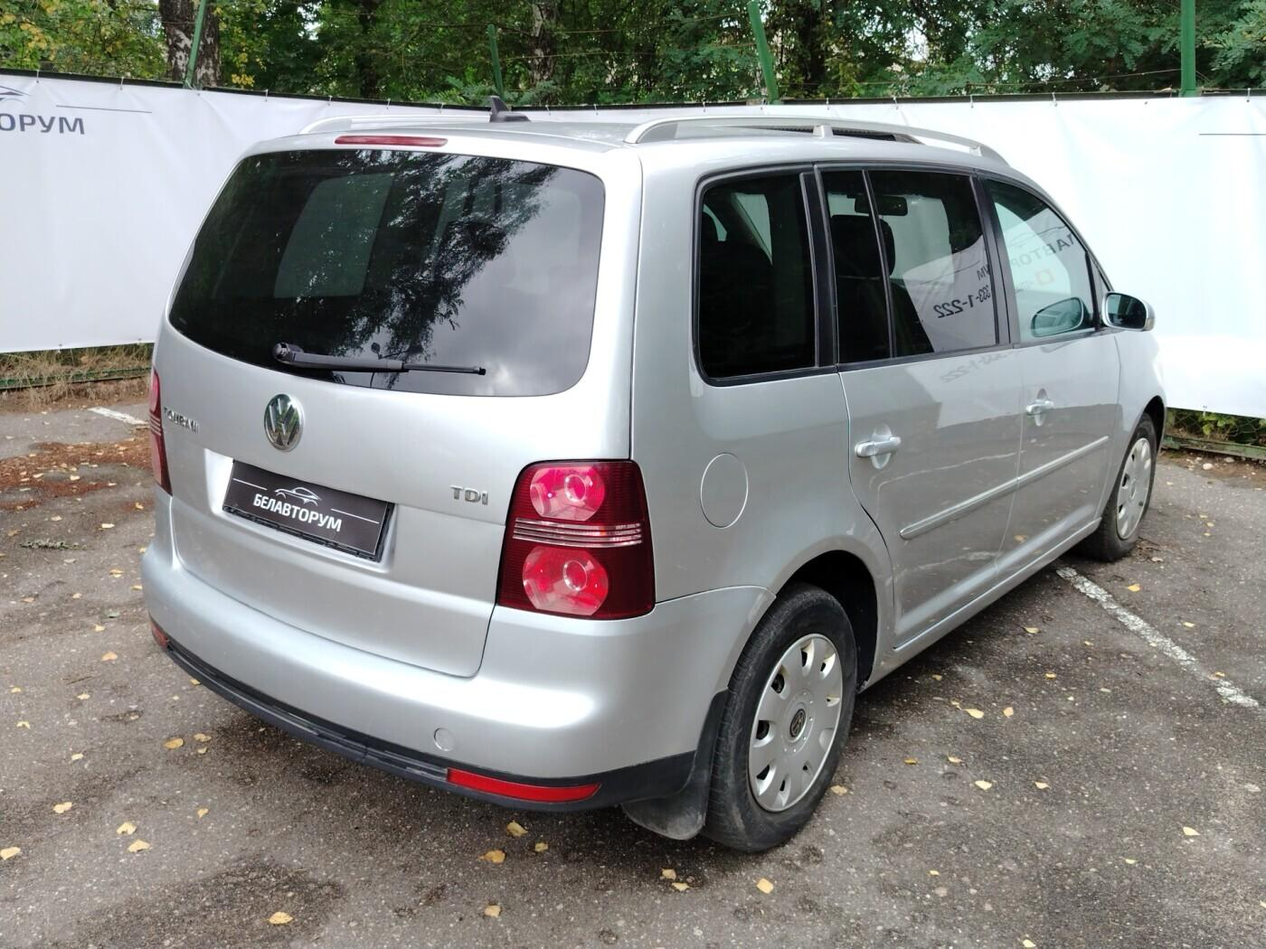Touran_2006-2010: (133, 115, 1168, 850)
